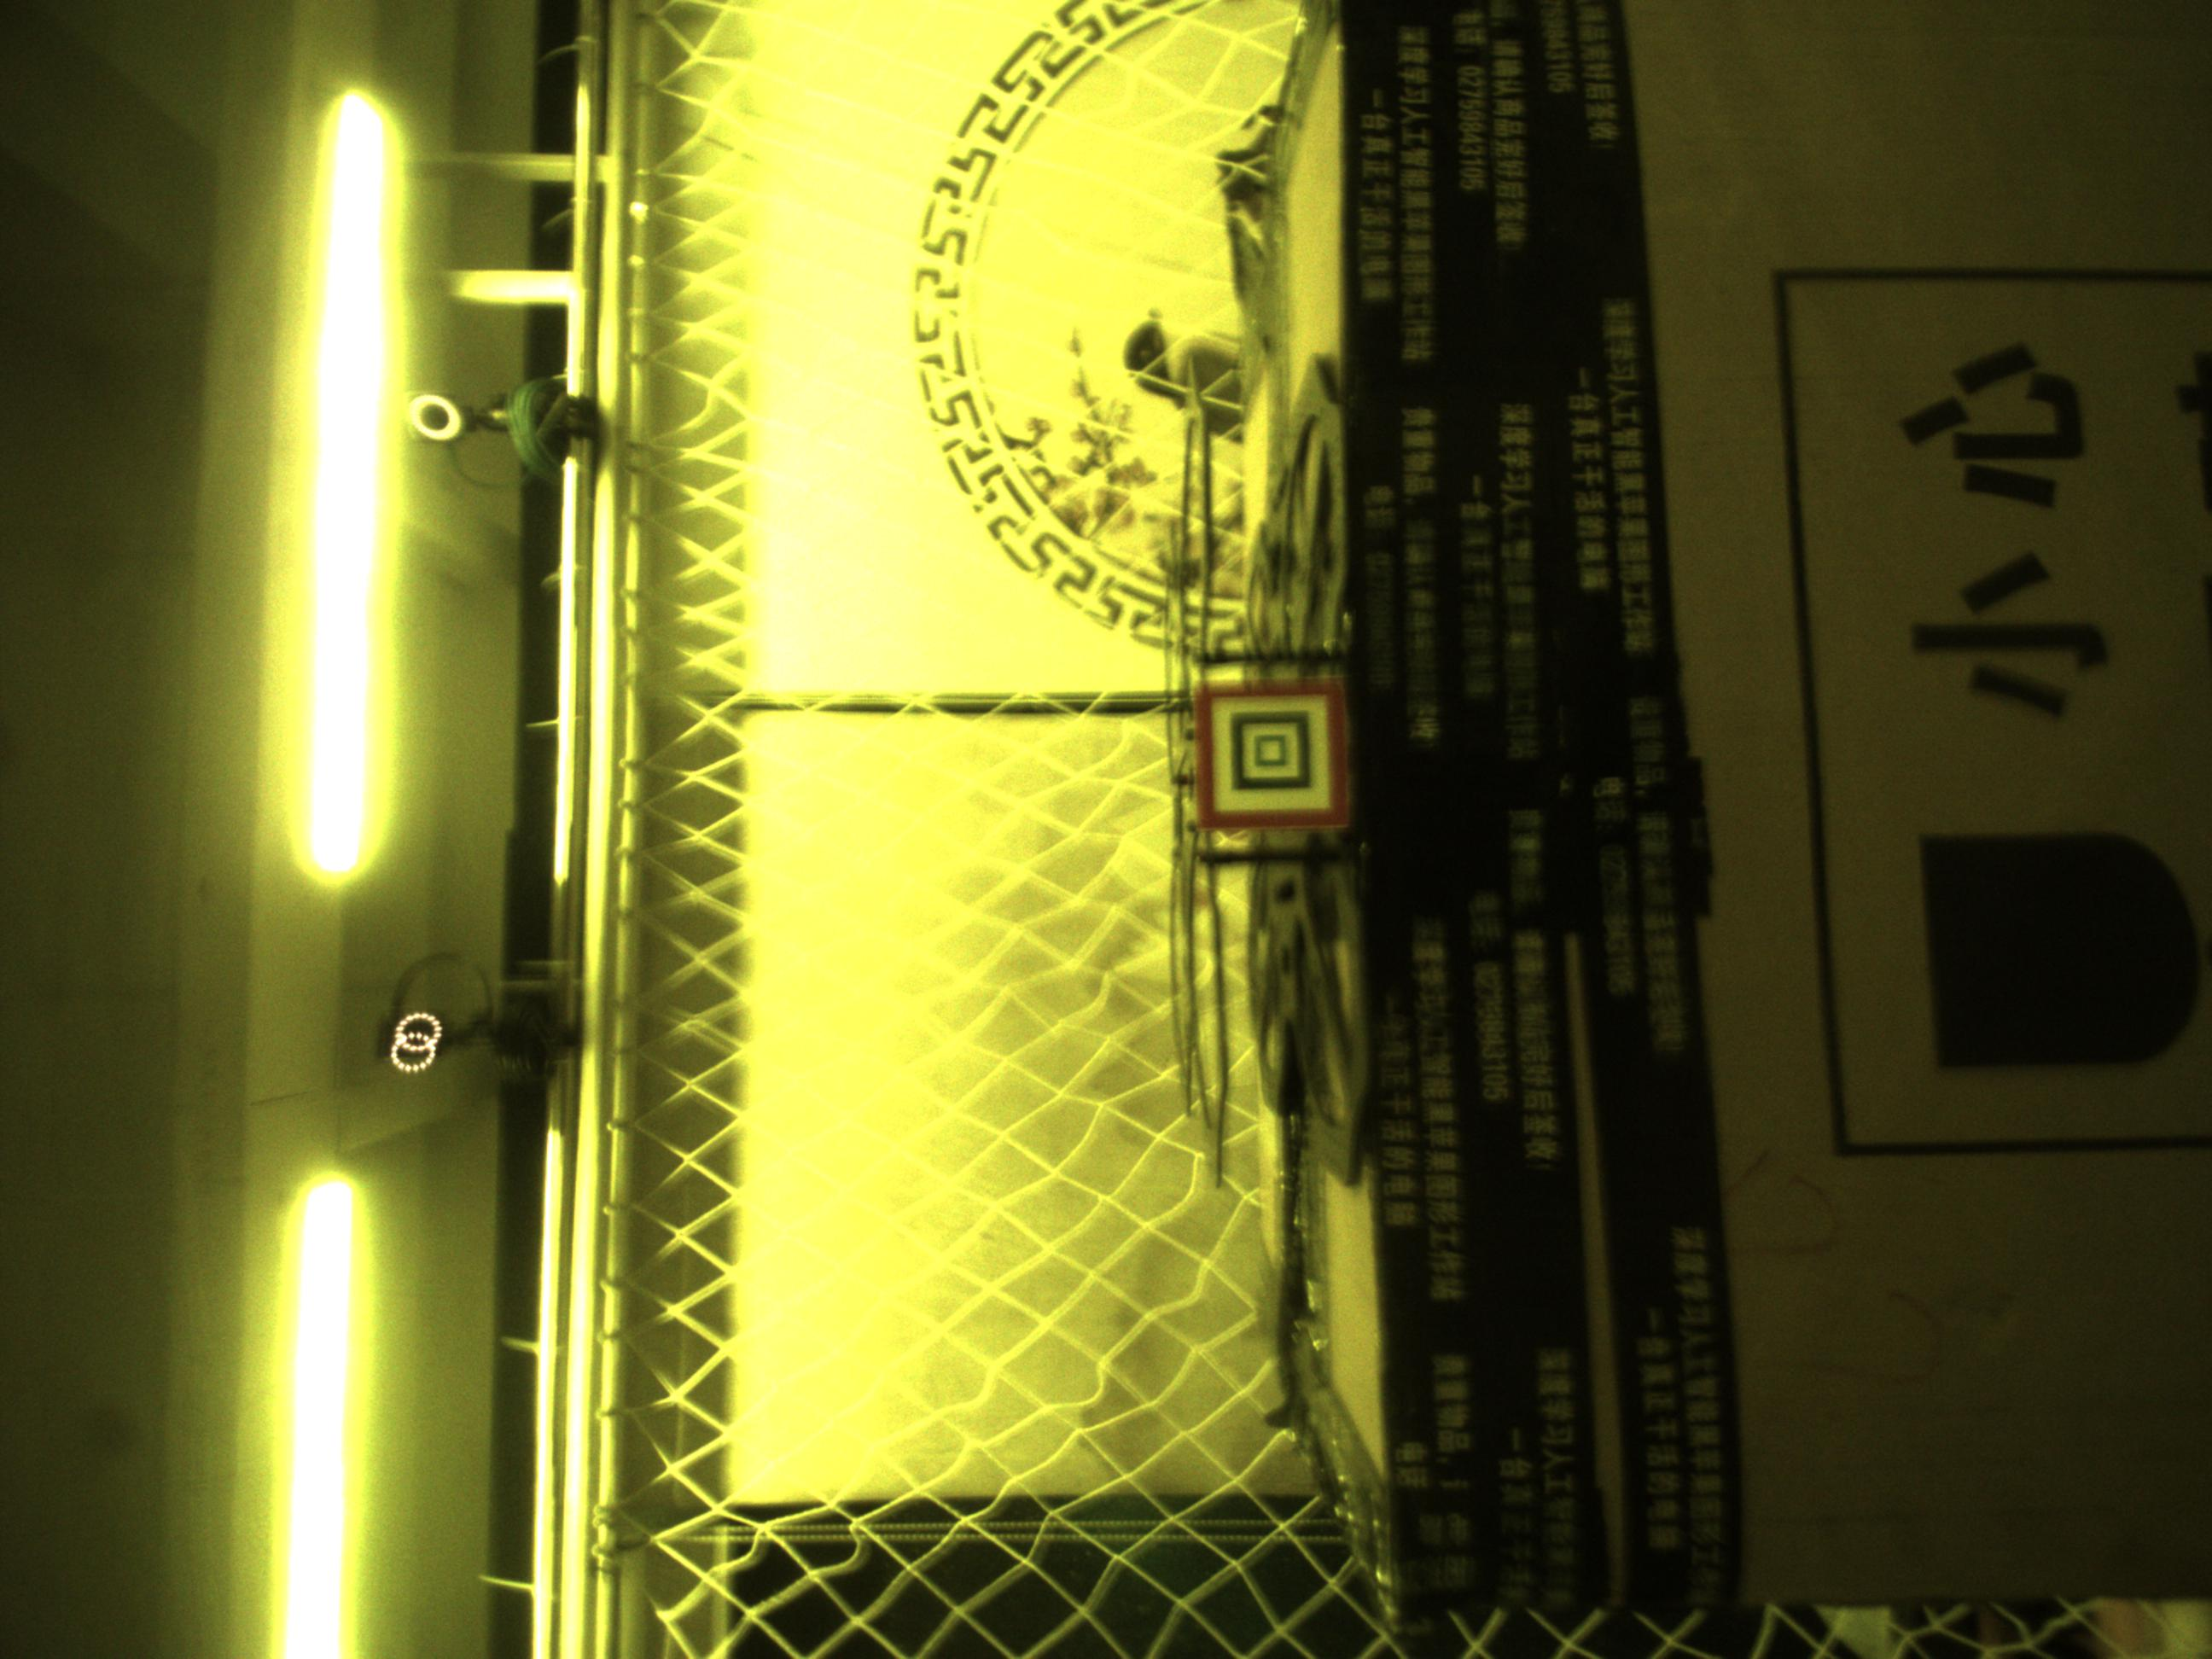outline: (1193, 680, 1352, 831)
